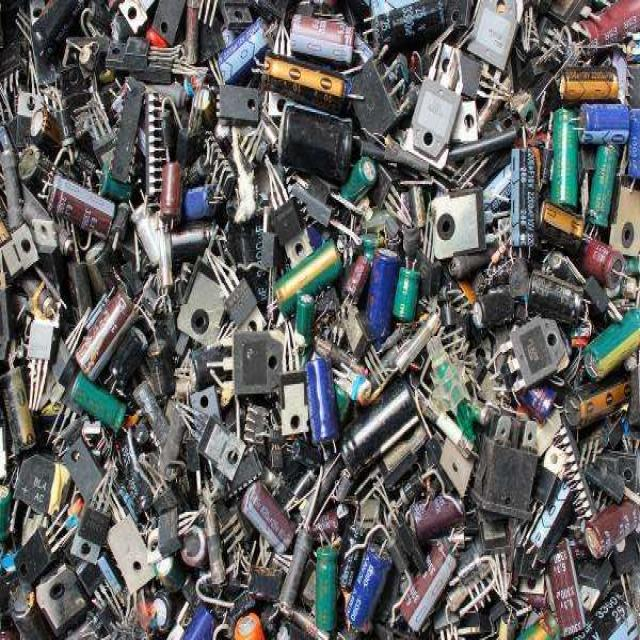heap: (8, 9, 620, 623)
metel: (217, 328, 291, 409), (508, 322, 572, 386), (72, 493, 110, 581)
plastic: (271, 97, 367, 189), (42, 169, 119, 255)
